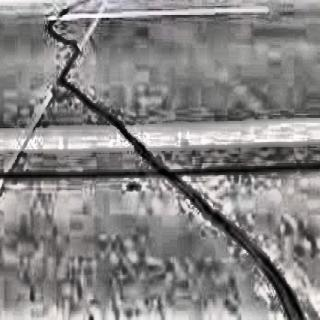crack: (48, 4, 308, 318), (0, 165, 320, 182)
